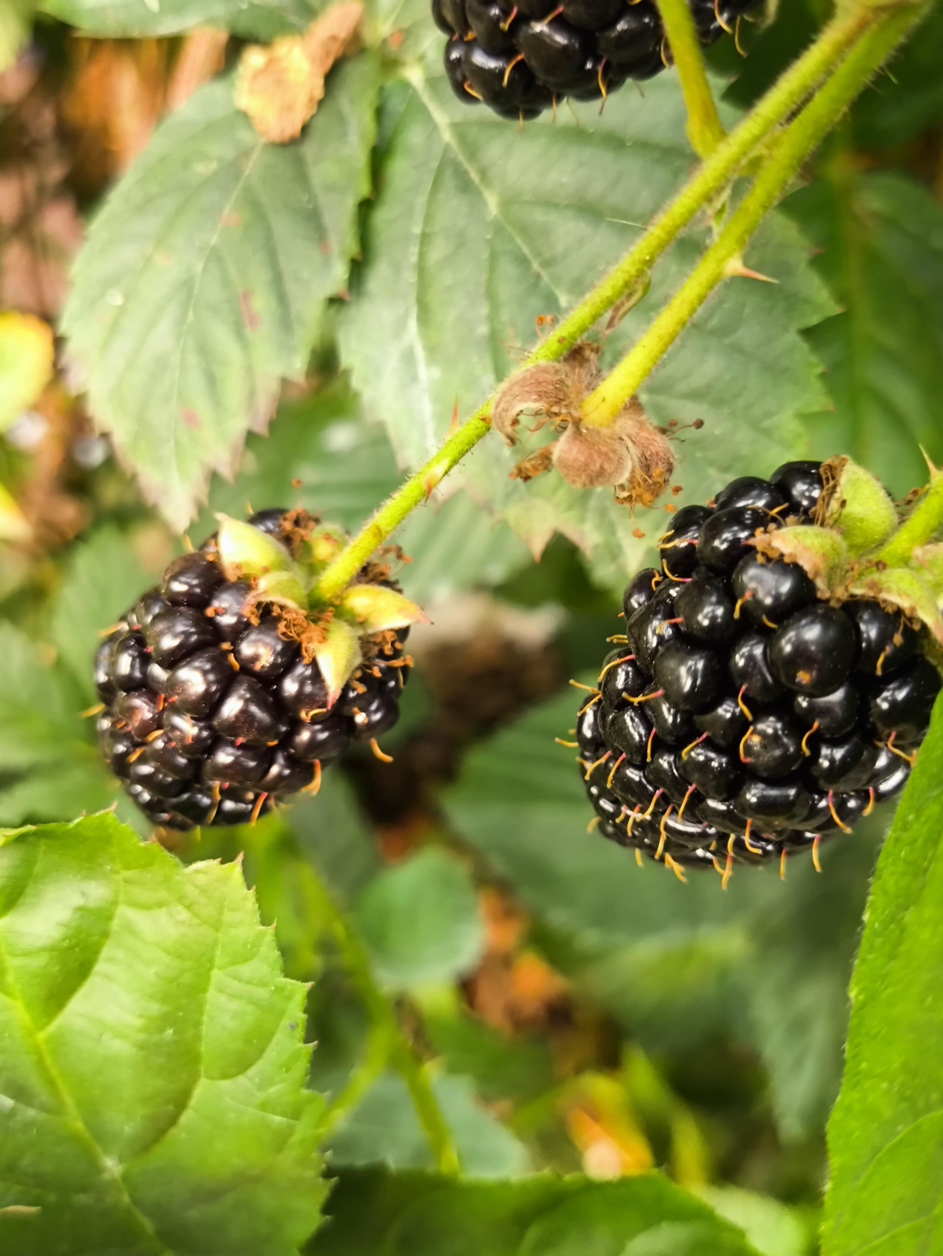maduro: (589, 455, 943, 862), (110, 507, 416, 835)
